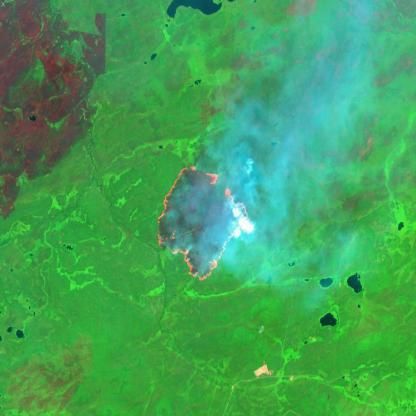fire: (156, 160, 251, 285)
